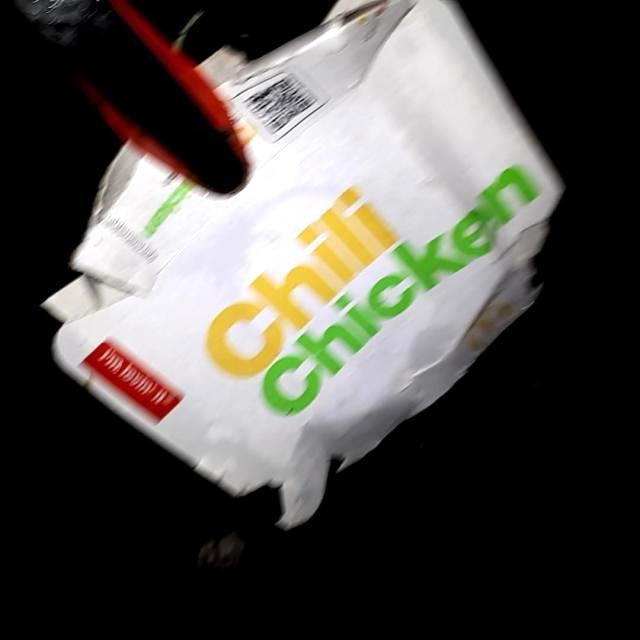Paper: (33, 0, 567, 534)
